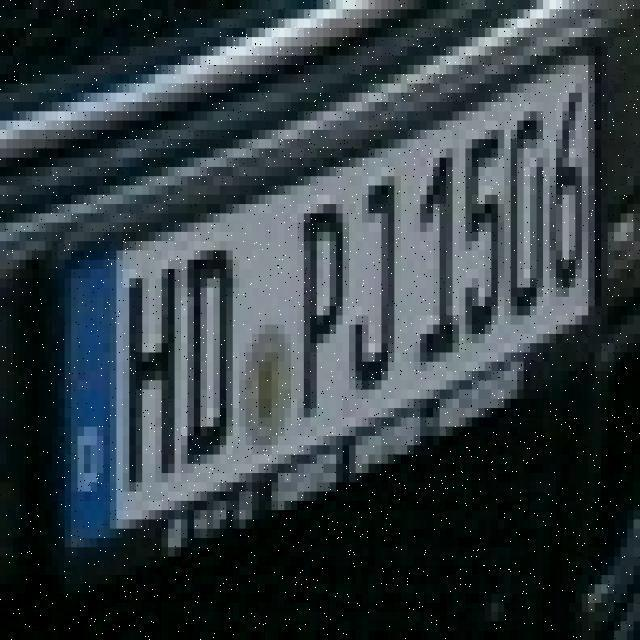LicensePlate: (40, 27, 614, 607)
